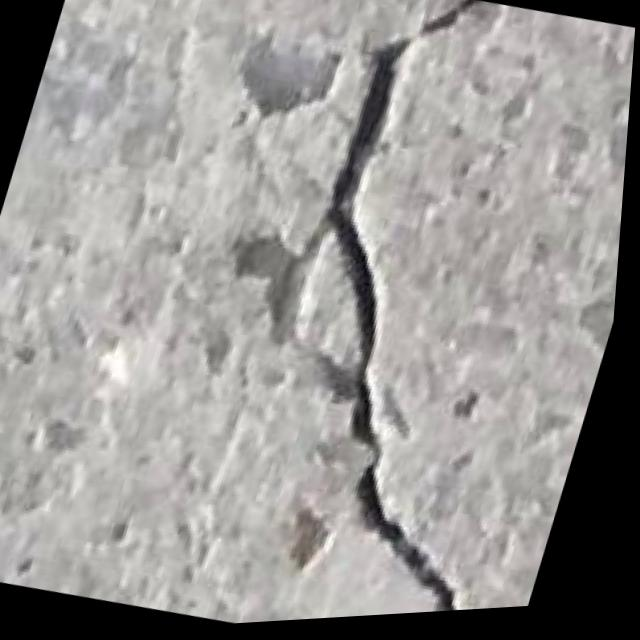Crack: (207, 0, 639, 629)
